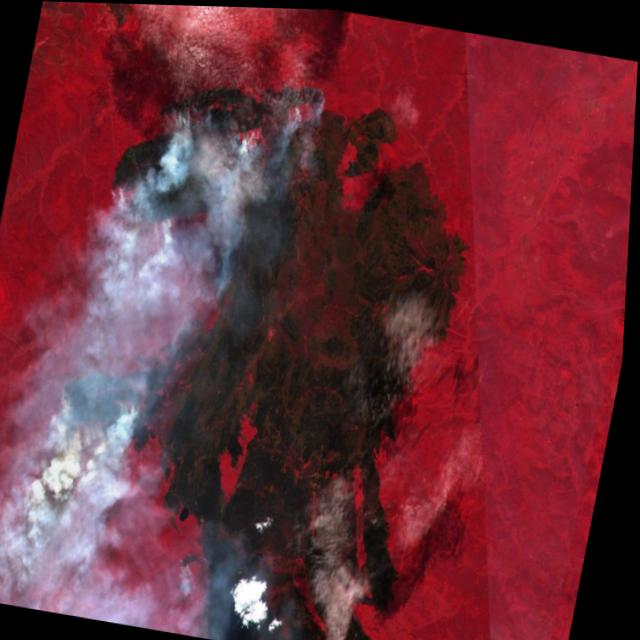fire: (101, 52, 331, 254), (45, 334, 172, 476)
